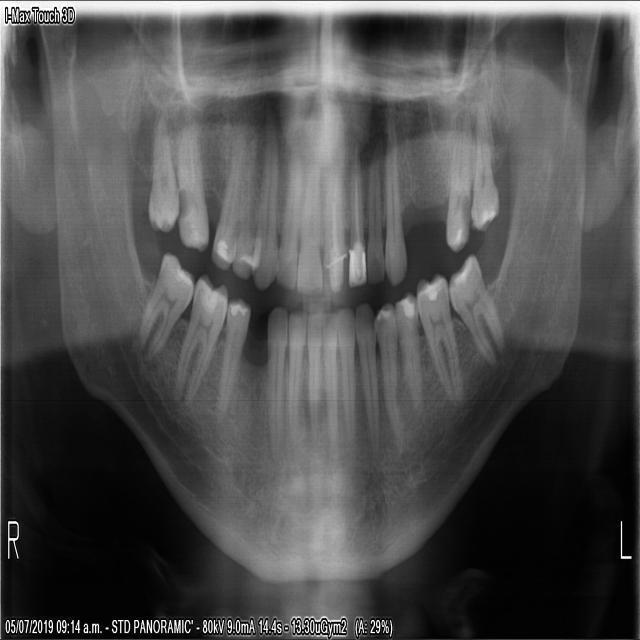LCD: (351, 299, 379, 448)
LCU: (364, 153, 384, 287)
LID: (335, 302, 354, 437), (321, 304, 340, 429)
LIU: (346, 166, 366, 291), (326, 170, 345, 294)
LMD: (446, 249, 507, 371), (412, 267, 461, 400)
LMU: (443, 132, 475, 255), (470, 112, 498, 229)
LPMD: (372, 296, 402, 436), (391, 291, 423, 411)
LPMU: (382, 145, 405, 287)
RCD: (261, 301, 287, 432)
RCU: (250, 131, 279, 293)
RID: (286, 303, 306, 432), (305, 308, 324, 435)
RIU: (273, 155, 302, 293), (295, 161, 322, 295)
RMD: (173, 269, 229, 402), (132, 248, 194, 363)
RMU: (169, 127, 209, 253), (146, 117, 178, 231)
RPMD: (213, 294, 249, 417)
RPMU: (209, 141, 248, 272), (230, 143, 265, 282)
